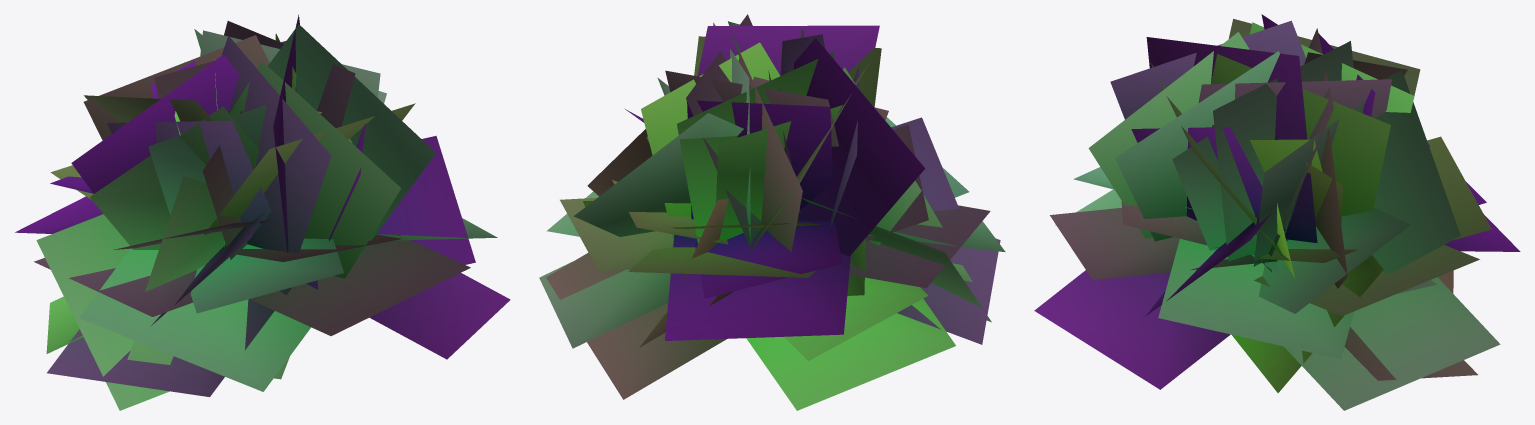
The model's file is bush001.fbx.
The picture shows the model from 3 angles, left to right: view 1: azimuth 30°, elevation 25°; view 2: azimuth 150°, elevation 25°; view 3: azimuth 270°, elevation 25°; orthographic projection. The views are drawn at different scales.
Visible parts, largest first — view 1: Tree_1; view 2: Tree_1; view 3: Tree_1.
Boxes of the visible parts, left/top/right/bottom form: Tree_1: left=15, top=14, right=510, bottom=410; Tree_1: left=539, top=14, right=1005, bottom=410; Tree_1: left=1034, top=14, right=1520, bottom=410.
Size of the model in its own units: 29.36 by 21.47 by 29.56.
